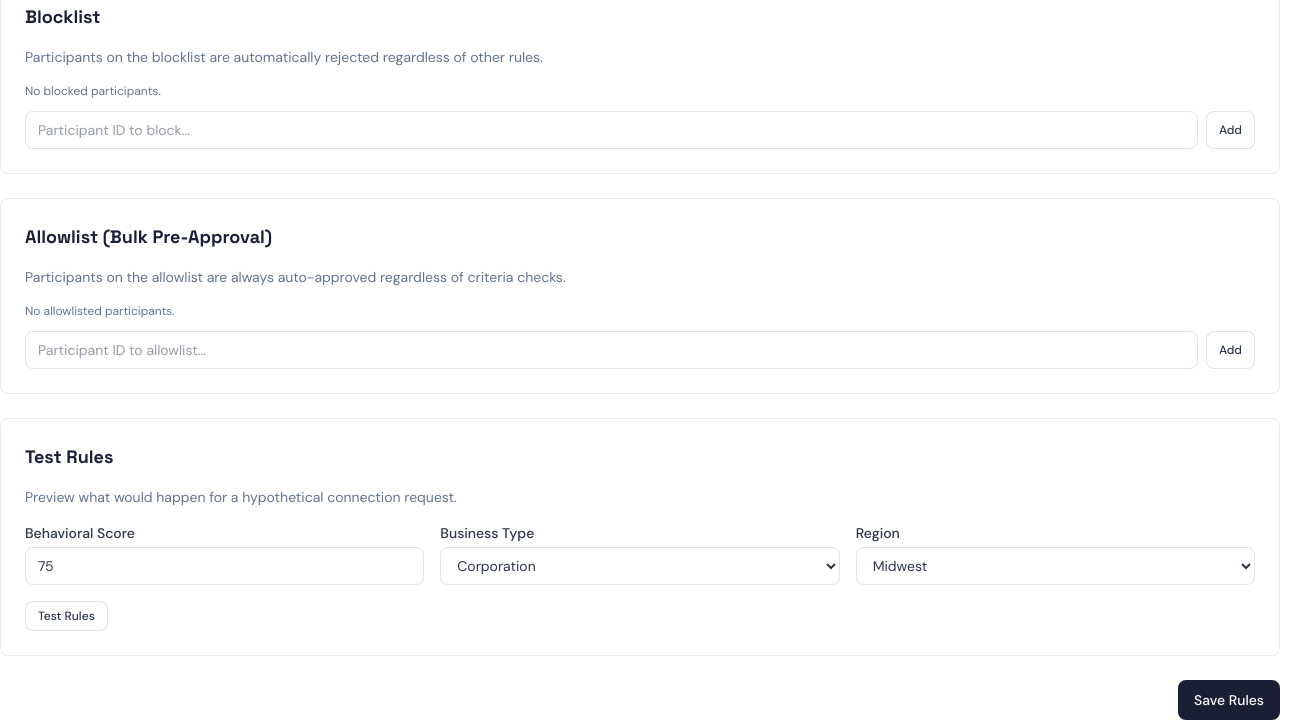
Test case: ApprovalRules — Save Rules (SEC-web-account-1-05) › one refused write shows the error and no success toast
(page scrolled)
Click the button "Save Rules".
click(1229, 700)  # box [1178, 680, 1280, 719]
(page scrolled)
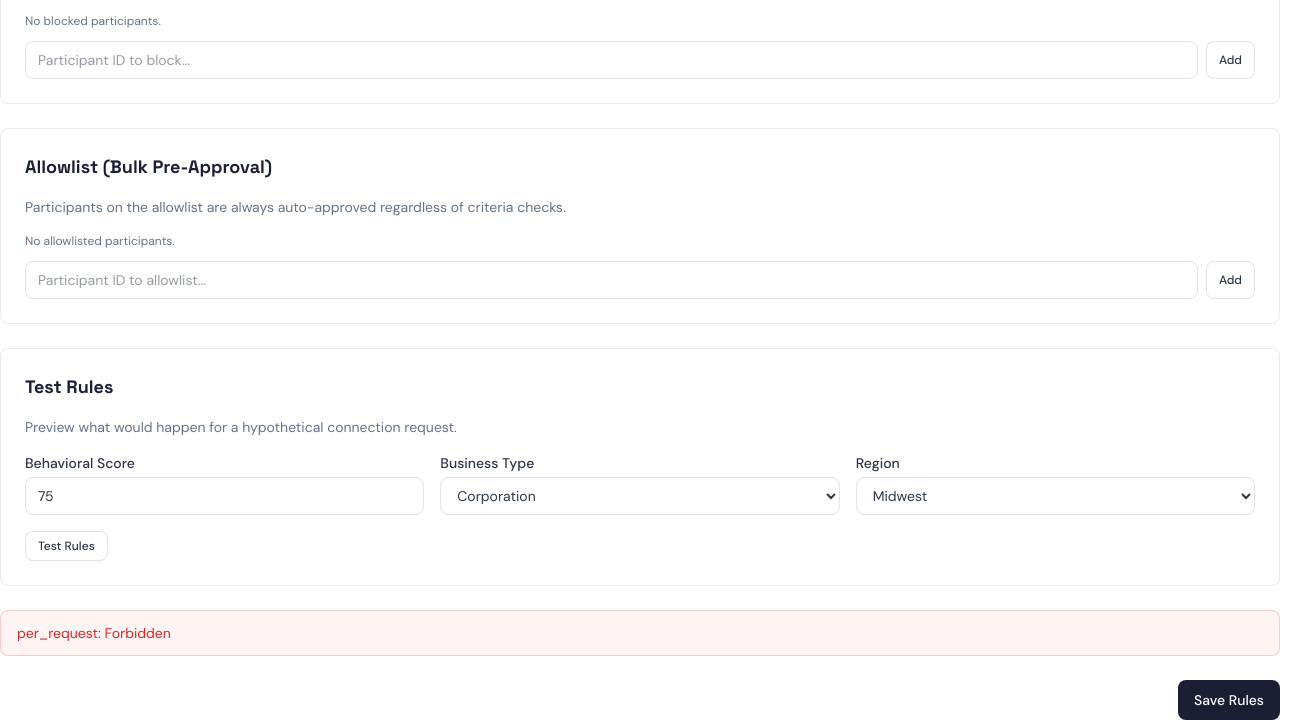
Expected: the message reads "per_request: Forbidden", [17, 624, 171, 642]
